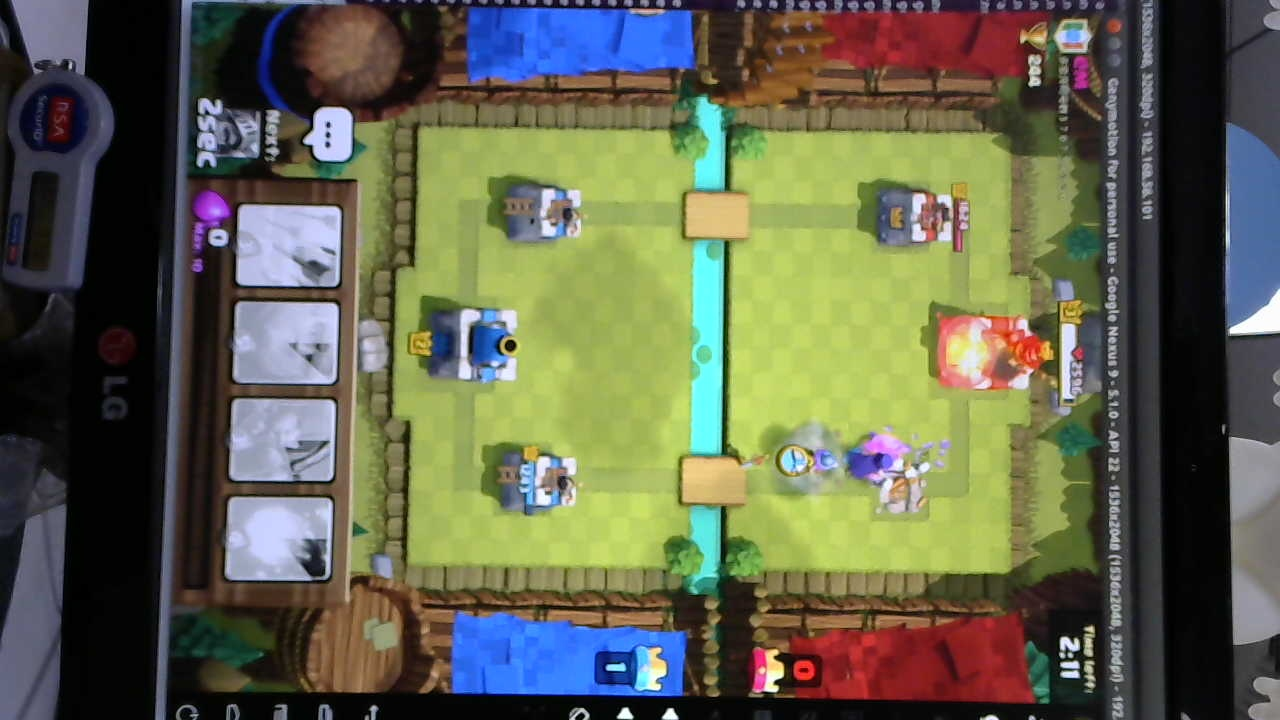arena: (506, 179, 590, 246), (505, 448, 580, 515)
darena: (874, 460, 934, 520)
earena: (870, 185, 955, 251)
eking: (937, 316, 1041, 394)
king: (428, 301, 523, 387)
musketeer: (798, 441, 842, 487)
skeleton: (908, 457, 936, 479)
witch: (848, 441, 902, 488)
